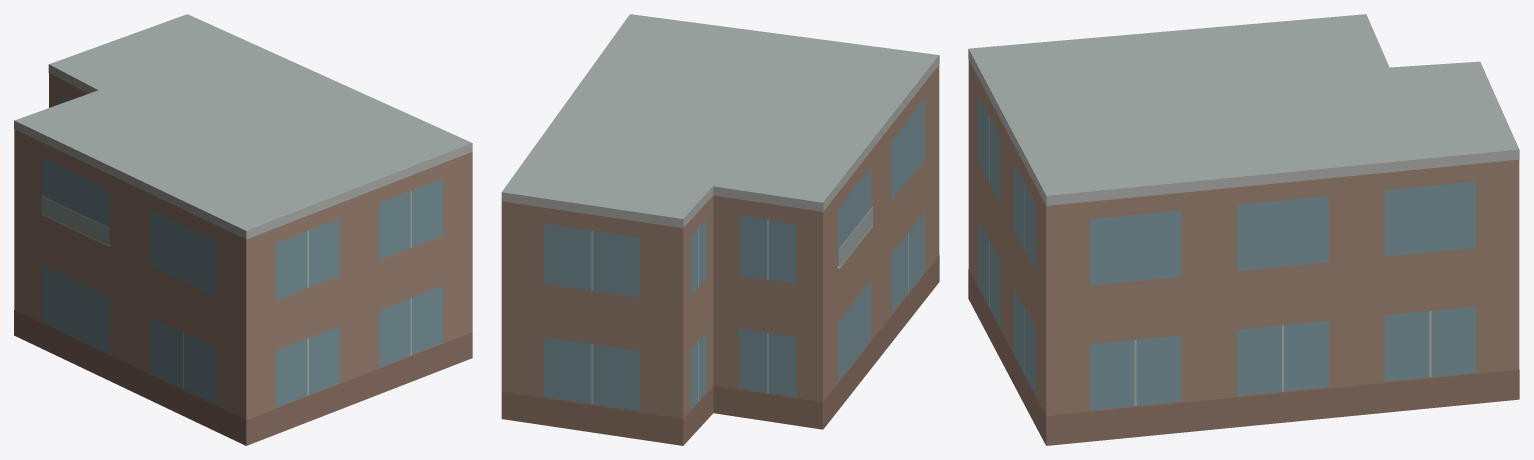
File: survey-upis-32784355.glb
3 views of the same model, side by side, from view 1: azimuth 30°, elevation 25°; view 2: azimuth 150°, elevation 25°; view 3: azimuth 270°, elevation 25° (orthographic). The views are drawn at different scales.
Parts seen in each view (by area): view 1: survey-upis-32784355.tmp; view 2: survey-upis-32784355.tmp; view 3: survey-upis-32784355.tmp.
Boxes of the visible parts, x1,y1,x2,y2 form: survey-upis-32784355.tmp: (14, 14, 472, 445); survey-upis-32784355.tmp: (501, 14, 939, 445); survey-upis-32784355.tmp: (968, 14, 1519, 445).
Bounding box in the file's own units: 9.54 × 6.1 × 12.2.
